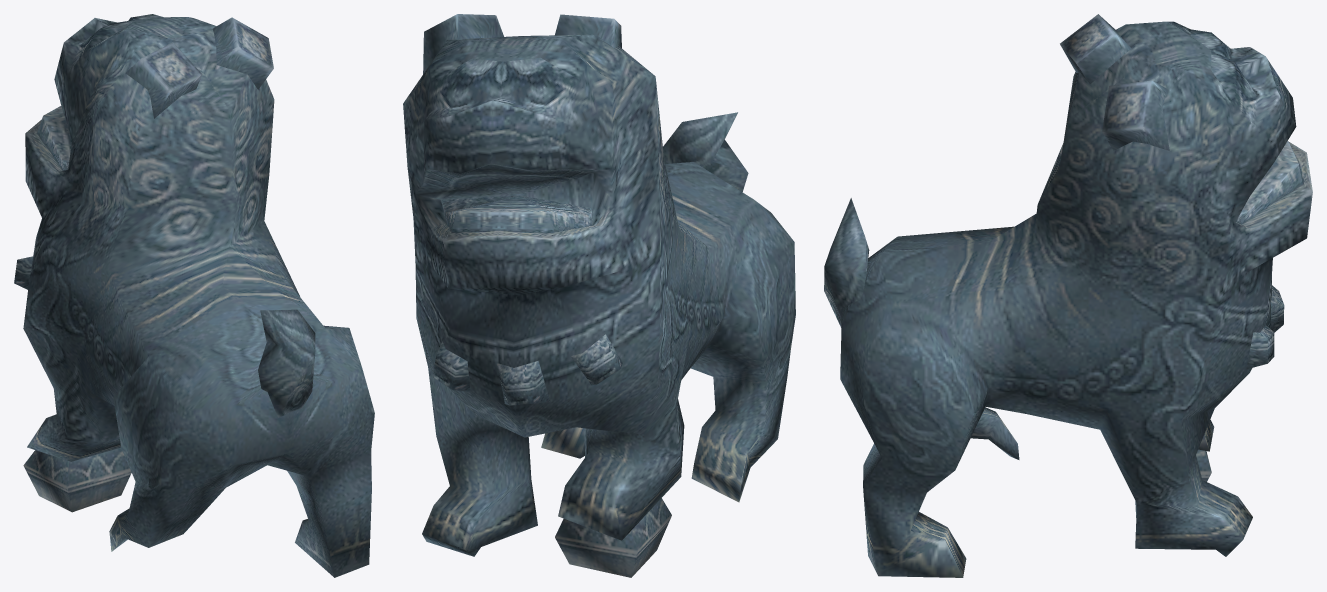
The model's file is 【道具】石狮子.glb.
3 views of the same model, side by side, from view 1: azimuth 30°, elevation 25°; view 2: azimuth 150°, elevation 25°; view 3: azimuth 270°, elevation 25° (orthographic). The views are drawn at different scales.
Visible parts, largest first — view 1: Mesh_0444.rip_noesis_meshnode_0000; view 2: Mesh_0444.rip_noesis_meshnode_0000; view 3: Mesh_0444.rip_noesis_meshnode_0000.
Part boxes in pixels (x1,y1,x2,y2): Mesh_0444.rip_noesis_meshnode_0000: [14, 14, 374, 577]; Mesh_0444.rip_noesis_meshnode_0000: [403, 14, 795, 577]; Mesh_0444.rip_noesis_meshnode_0000: [824, 14, 1312, 577].
Size of the model in its own units: 0.4362 by 0.8415 by 0.748.
1 material, 1 textured.
